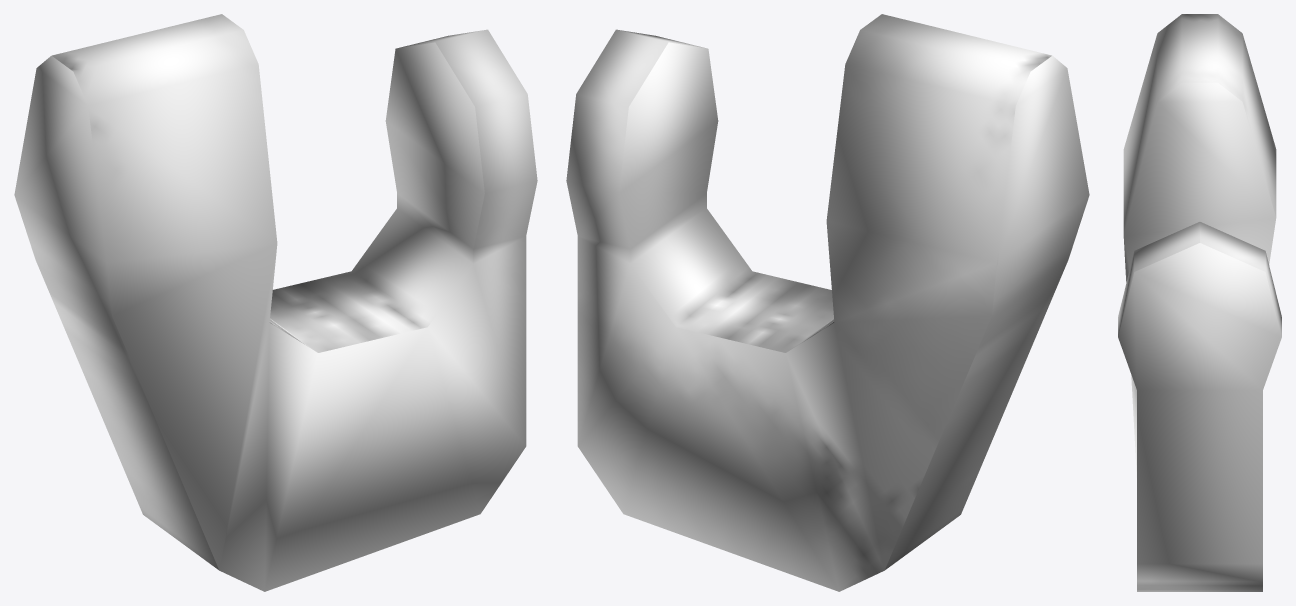
The model's file is mtorso.dae.
3 renders of one model, left to right at view 1: azimuth 30°, elevation 25°; view 2: azimuth 150°, elevation 25°; view 3: azimuth 270°, elevation 25°, orthographic. The views are drawn at different scales.
Parts seen in each view (by area): view 1: mtorso; view 2: mtorso; view 3: mtorso.
Part boxes in pixels (x1=…): mtorso: x1=14, y1=14, x2=537, y2=591; mtorso: x1=566, y1=14, x2=1089, y2=591; mtorso: x1=1118, y1=14, x2=1281, y2=591.
Size of the model in its own units: 0.0837 by 0.0337 by 0.1012.
1 material, 1 textured.
